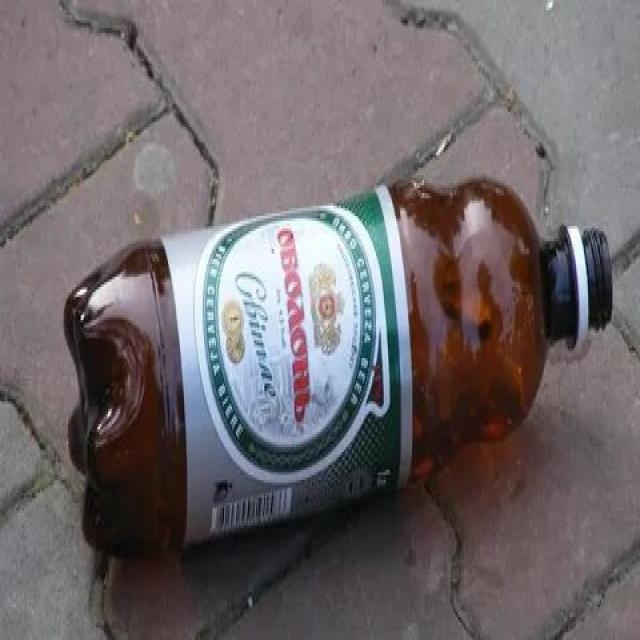brown: (66, 173, 612, 557)
